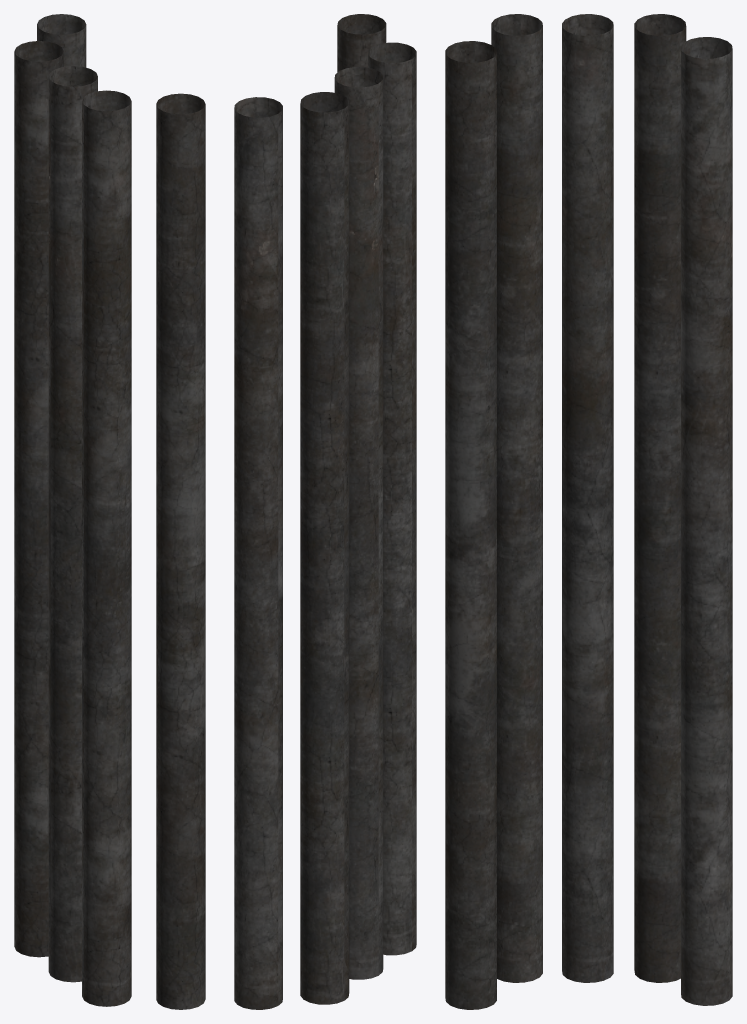
Rendered from Utility_Pipes_C.glb.
3 renders of one model, left to right at view 1: azimuth 30°, elevation 25°; view 2: azimuth 150°, elevation 25°; view 3: azimuth 270°, elevation 25°, orthographic. The views are drawn at different scales.
Visible parts, largest first — view 1: Utility_Pipes_C; view 2: Utility_Pipes_C; view 3: Utility_Pipes_C.
Boxes of the visible parts, box(x1,y1,x2,y2) form: Utility_Pipes_C: box(14, 14, 205, 1009); Utility_Pipes_C: box(234, 14, 416, 1009); Utility_Pipes_C: box(445, 14, 732, 1009).
Bounding box in the file's own units: 0.3322 × 3 × 0.8249.
Materials: 1 (1 with a texture image).
